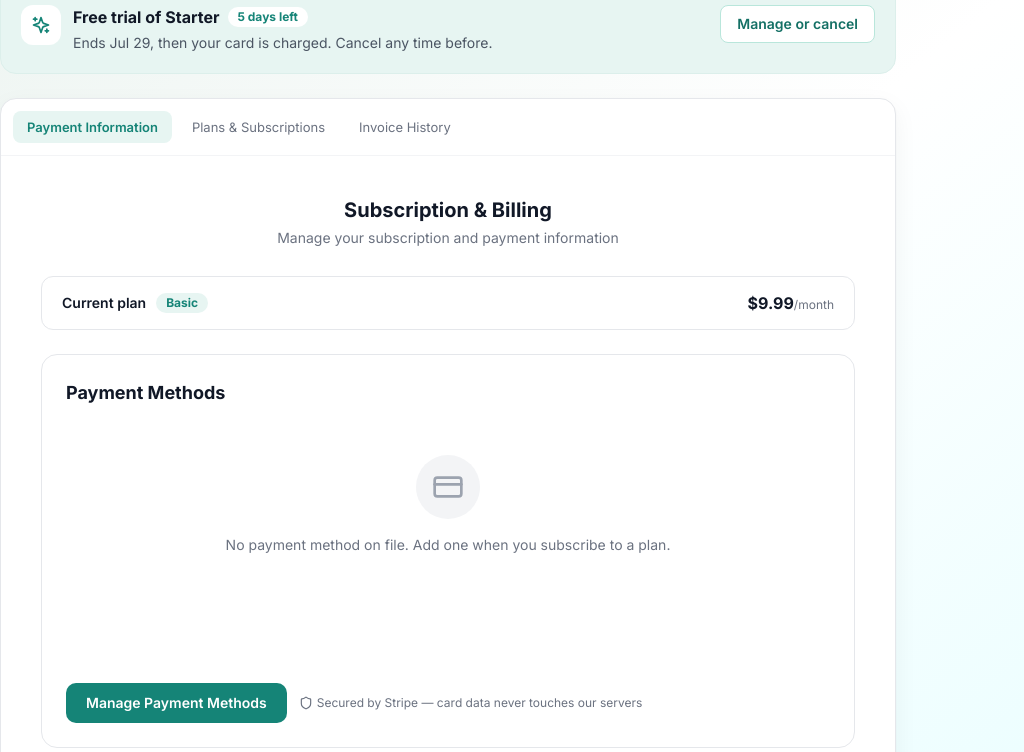
Test: Billing Page Integration › plan change confirmation › tells a trialing user that nothing is charged today
Click the text "Plans & Subscriptions" at (258, 127), box [192, 119, 325, 135]
(page scrolled)
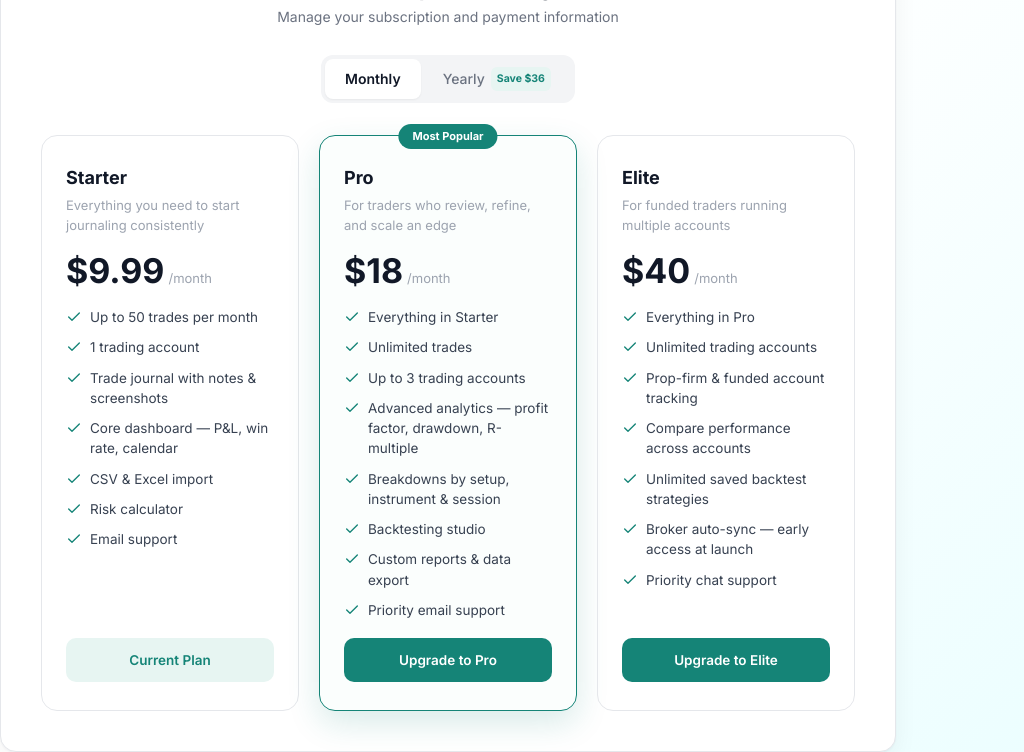
Click the button "Upgrade to Pro" at (448, 660), box [344, 638, 552, 682]
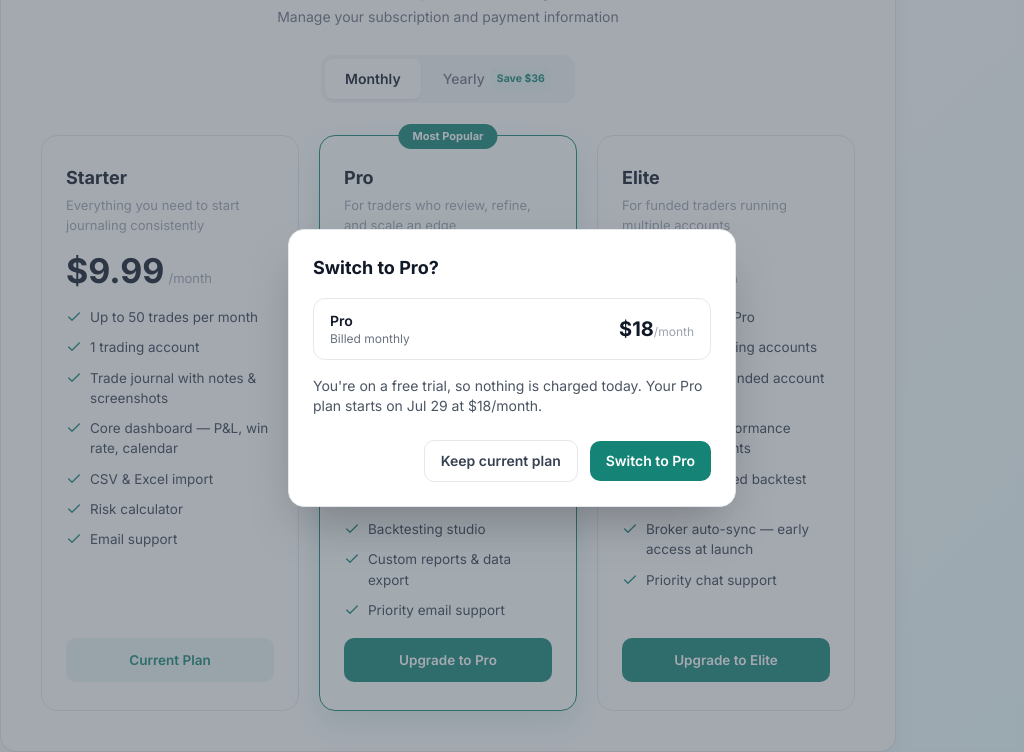
Expected: the text with test id "billing-plan-confirm-message" shows "nothing is charged today", [313, 377, 702, 414]
